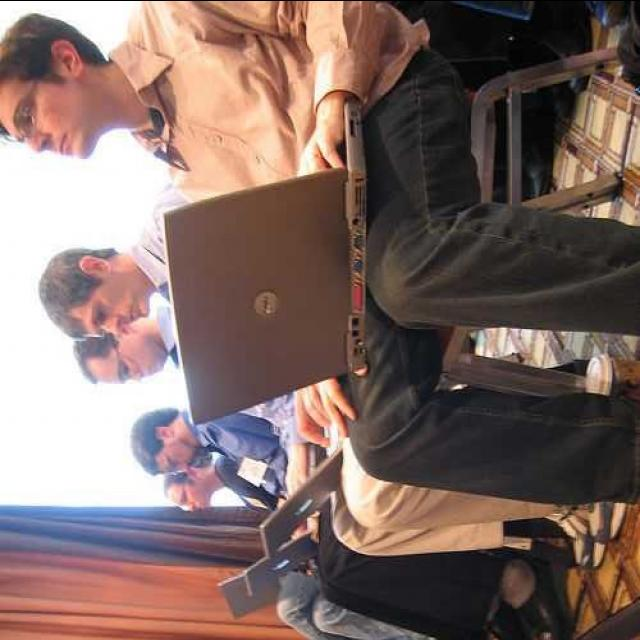laptop: (170, 149, 358, 424), (216, 444, 342, 613), (226, 556, 292, 608)
